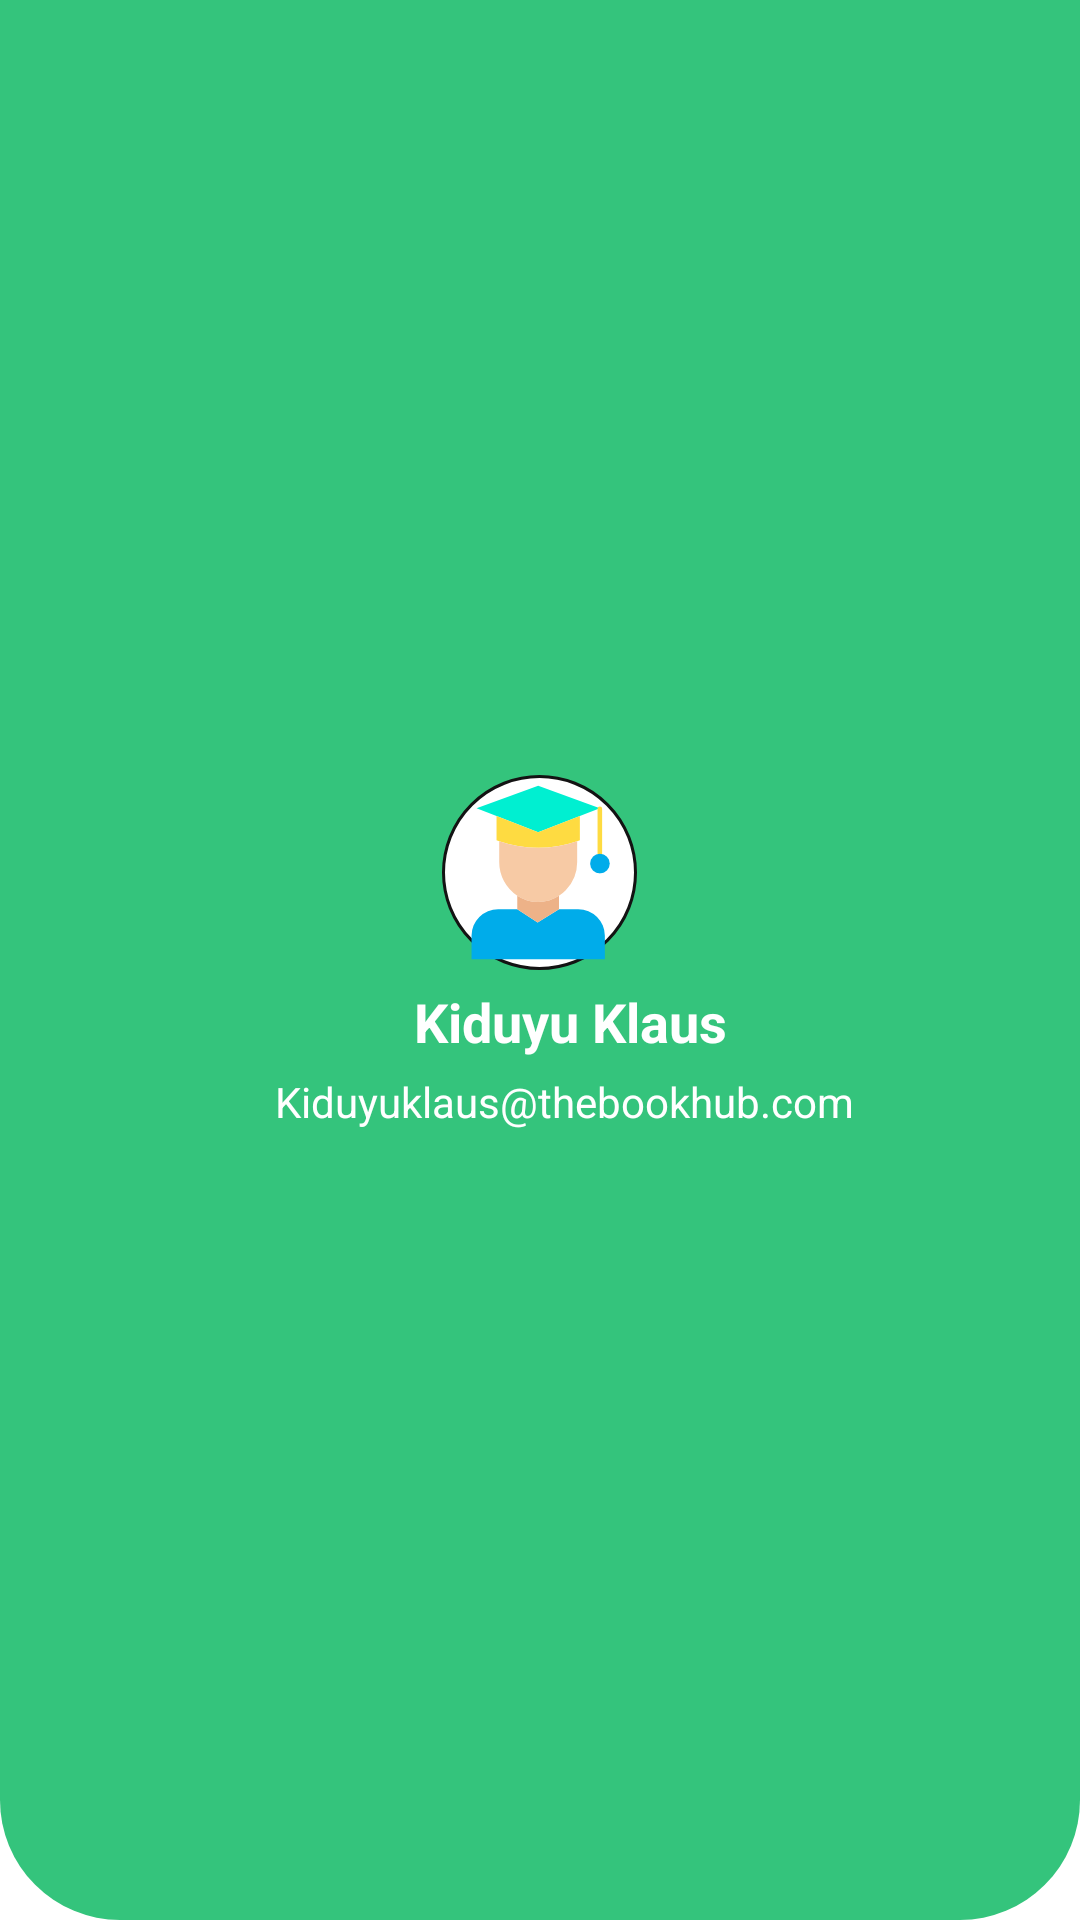

Icons on this 1080w x 1920h Android screen, each with the point to tap as point (x, y):
profile: point (539, 872)
